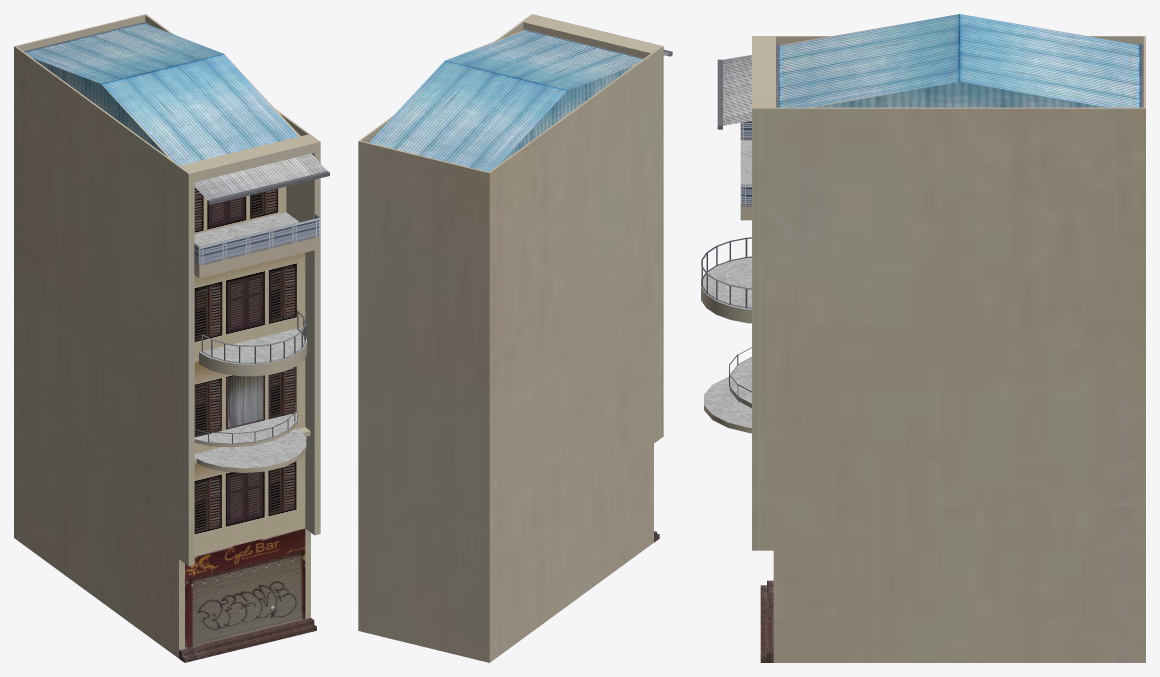
3 renders of one model, left to right at view 1: azimuth 30°, elevation 25°; view 2: azimuth 150°, elevation 25°; view 3: azimuth 270°, elevation 25°, orthographic. The views are drawn at different scales.
Parts seen in each view (by area): view 1: HN922_Cyclo_Bar; view 2: HN922_Cyclo_Bar; view 3: HN922_Cyclo_Bar.
Part boxes in pixels (x1,y1,x2,y2): HN922_Cyclo_Bar: [14, 14, 329, 662]; HN922_Cyclo_Bar: [358, 14, 672, 662]; HN922_Cyclo_Bar: [701, 14, 1145, 662].
Bounding box in the file's own units: 5 × 18.57 × 12.93.
1 material, 1 textured.
